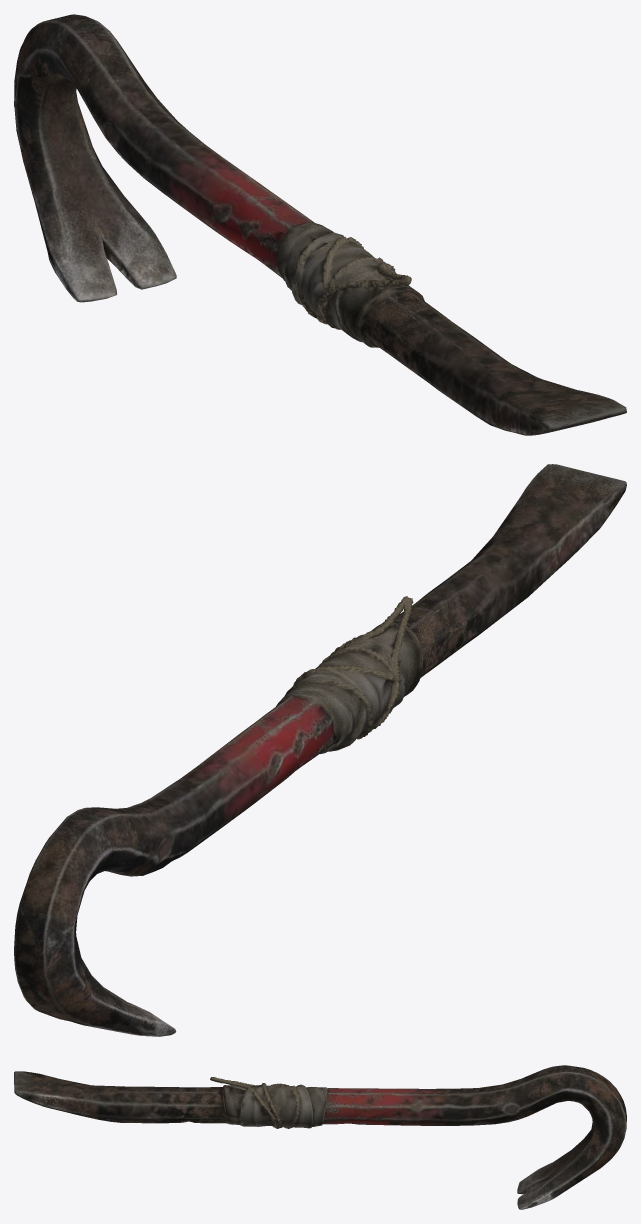
Rendered from crowbar.glb.
3 renders of one model, top to bottom at view 1: azimuth 30°, elevation 25°; view 2: azimuth 150°, elevation 25°; view 3: azimuth 270°, elevation 25°, orthographic. The views are drawn at different scales.
Parts seen in each view (by area): view 1: item; view 2: item; view 3: item.
Boxes of the visible parts, bbox=[...] form: item: bbox=[14, 14, 626, 435]; item: bbox=[14, 464, 626, 1036]; item: bbox=[14, 1065, 626, 1209].
Size of the model in its own units: 0.0819 by 0.1817 by 0.7798.
Materials: 1 (1 with a texture image).
